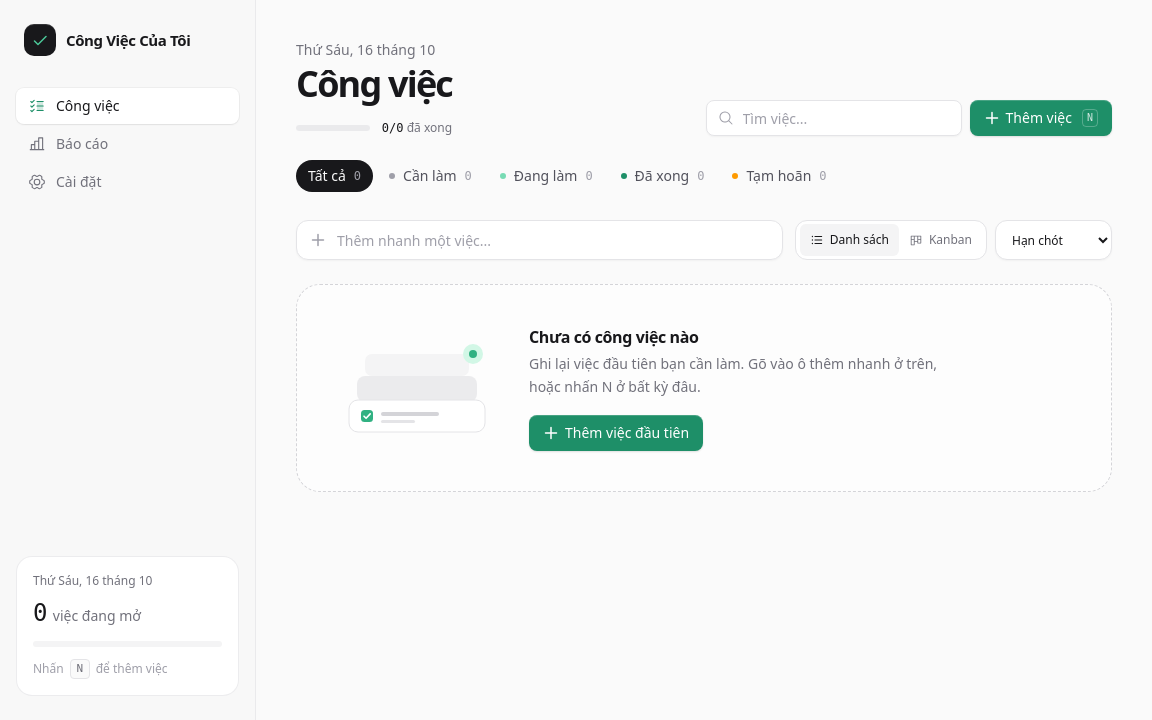
Scenario: tạo / sửa công việc › tạo qua hộp thoại, có kiểm tra lỗi
This screenshot has width=1152, height=720.
Click the button "Thêm việc N".
click(1041, 118)  # box [970, 100, 1112, 136]
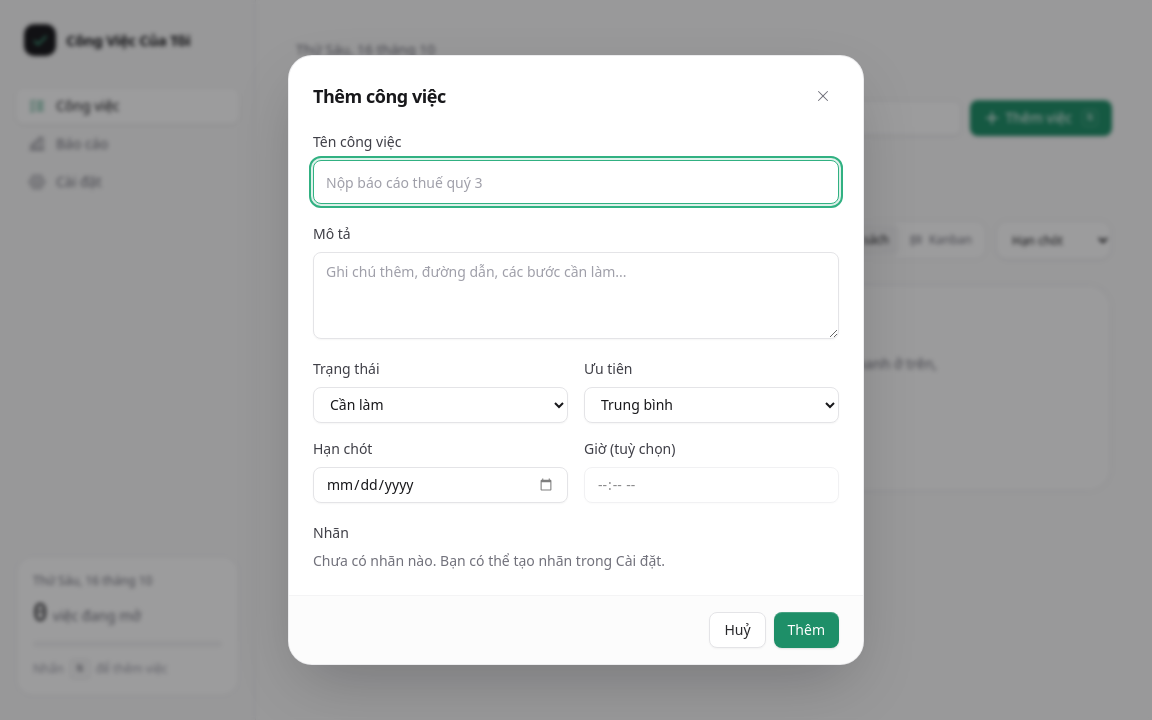
Click the button "Thêm".
click(806, 630)  # box [774, 612, 839, 648]
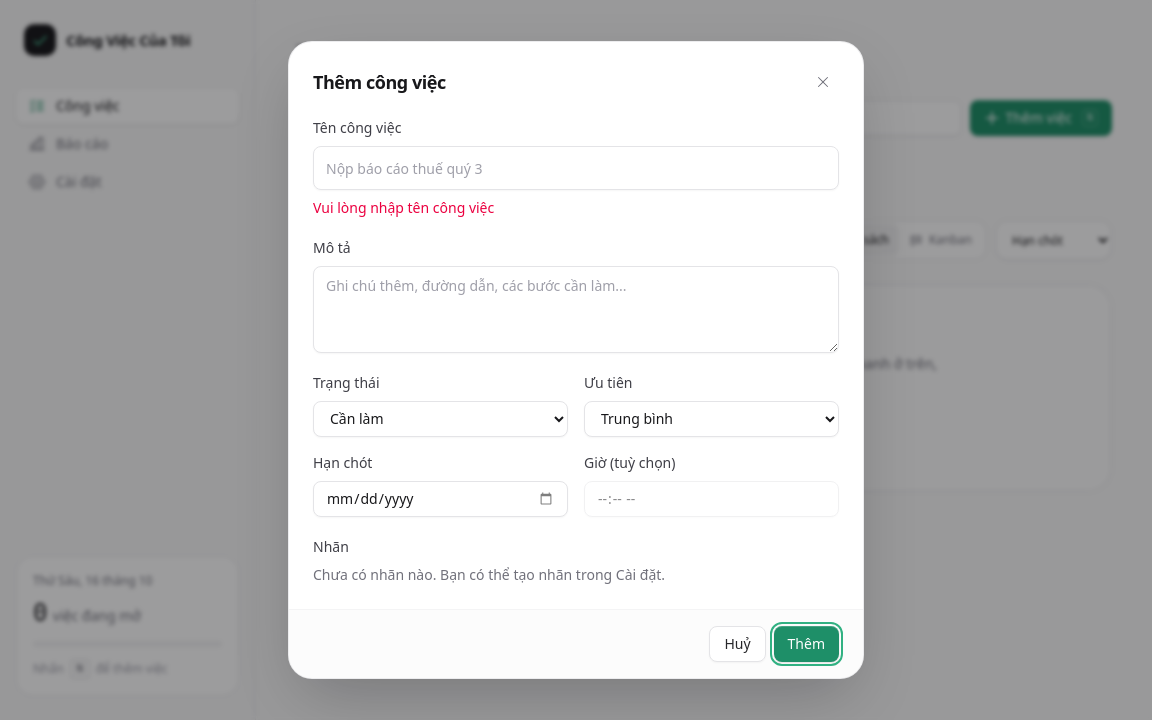
Result: the text "Vui lòng nhập tên công việc" is shown at [313, 198, 494, 217]
Type "Viết báo cáo quý" into the field labelled "Tên công việc".
click(576, 168); type("Viết báo cáo quý")  # box [313, 146, 839, 190]
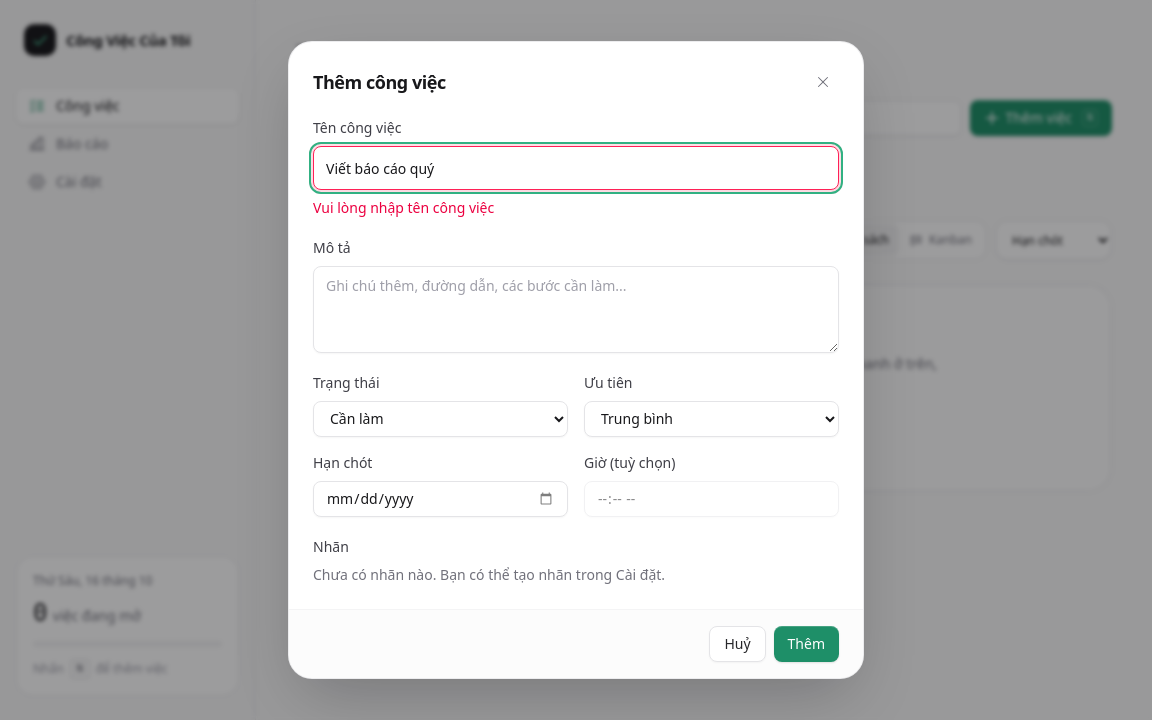
Select "Cao" in the dropdown labelled "Ưu tiên" at (712, 419), box [584, 401, 839, 437]
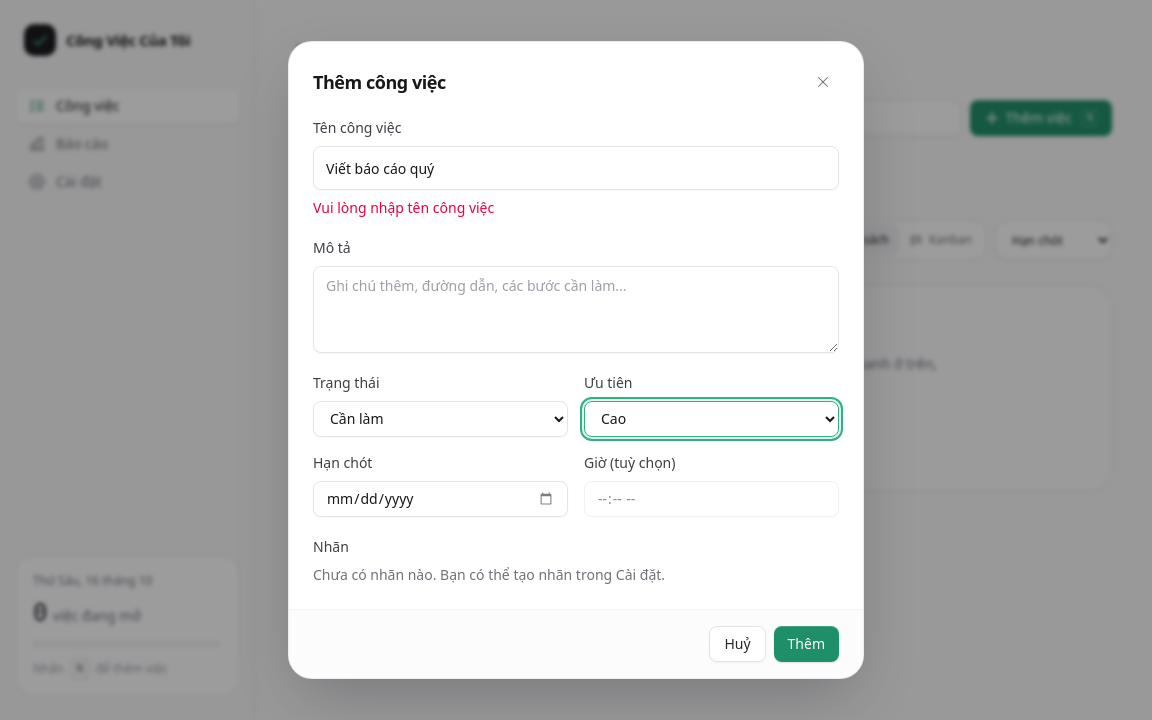
Type "2026-10-20" into the date field labelled "Hạn chót".
click(440, 499); type("2026-10-20")  # box [313, 481, 568, 517]
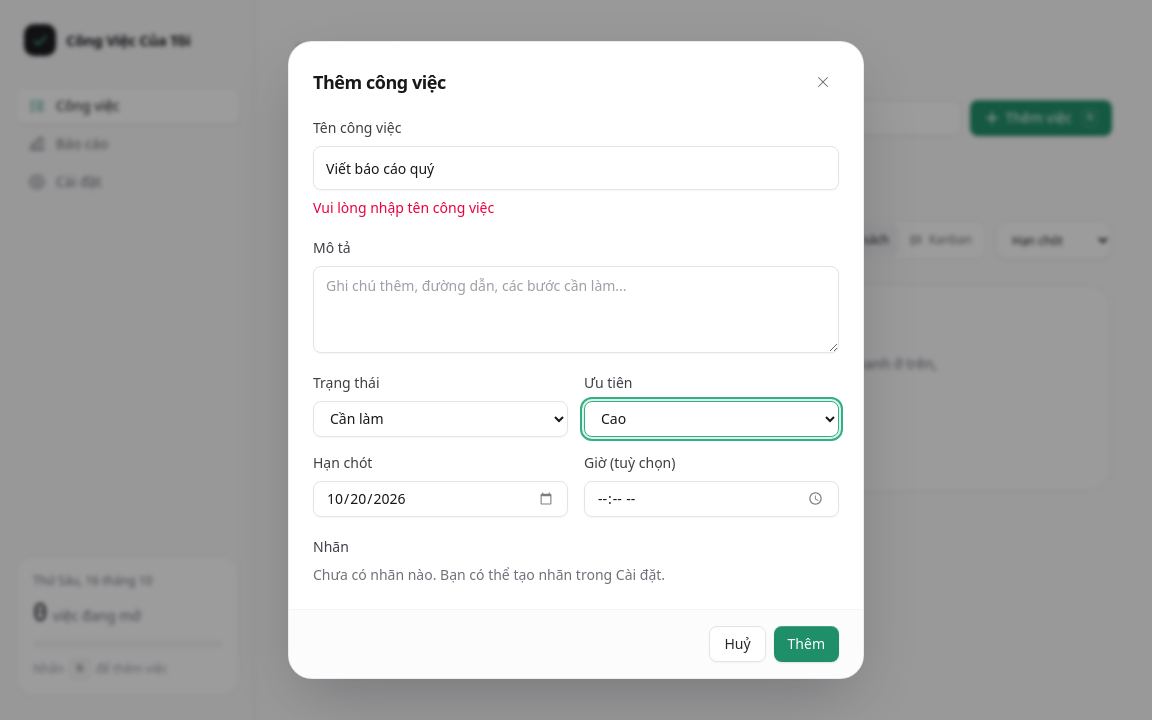
Click the button "Thêm".
click(806, 644)  # box [774, 626, 839, 662]
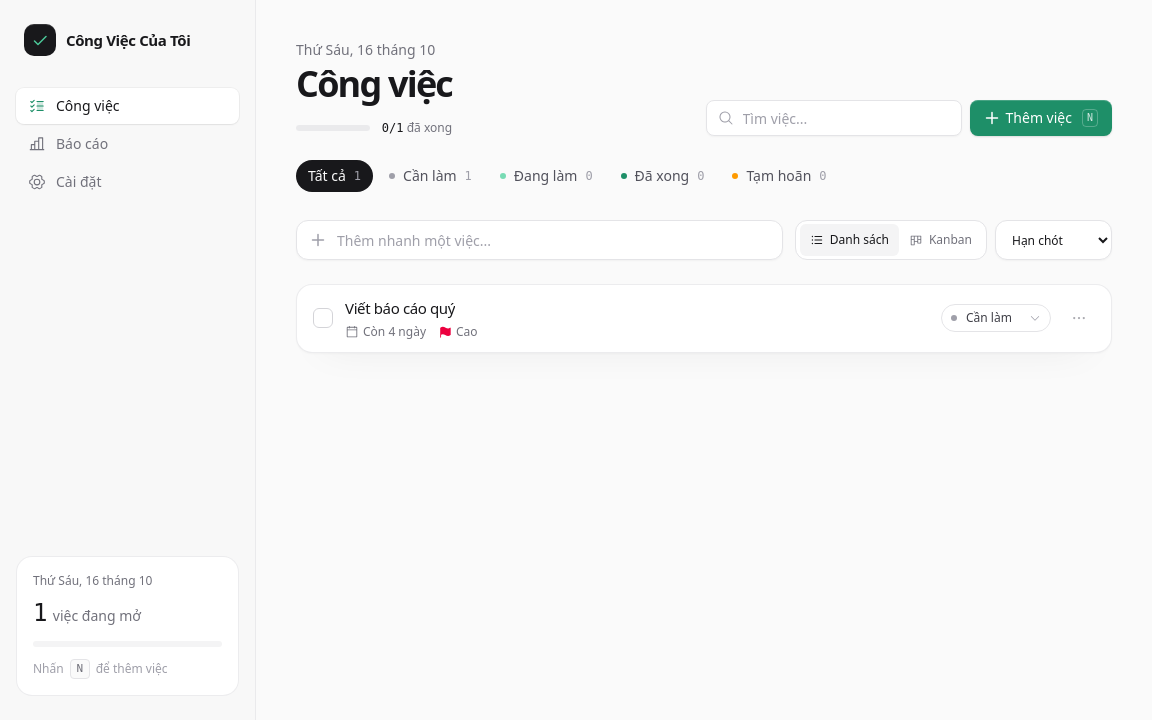
Result: the dialog is gone
